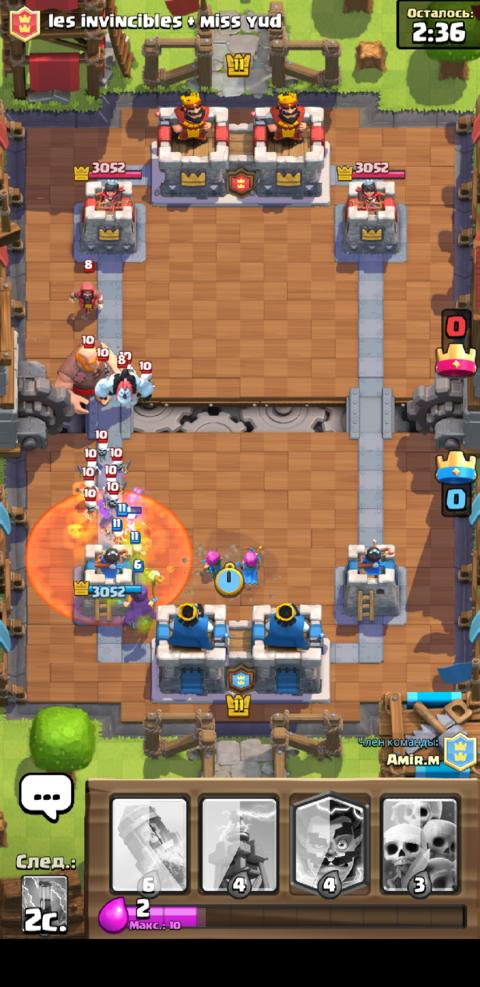ally_archer: (232, 542, 266, 585), (192, 548, 223, 578)
ally_skeleton: (117, 502, 141, 528), (128, 529, 144, 560), (109, 518, 125, 545)
ally_witch: (121, 558, 161, 631)
enemy_giant: (49, 333, 122, 414)
enemy_ice_golem: (93, 355, 152, 406)
enemy_skeleton: (100, 481, 126, 515), (108, 445, 131, 476), (80, 487, 100, 520), (92, 428, 110, 457), (82, 446, 100, 474), (76, 462, 95, 487), (137, 359, 155, 385), (102, 463, 121, 483), (119, 350, 134, 372)
enemy_wizard: (66, 258, 104, 318)
